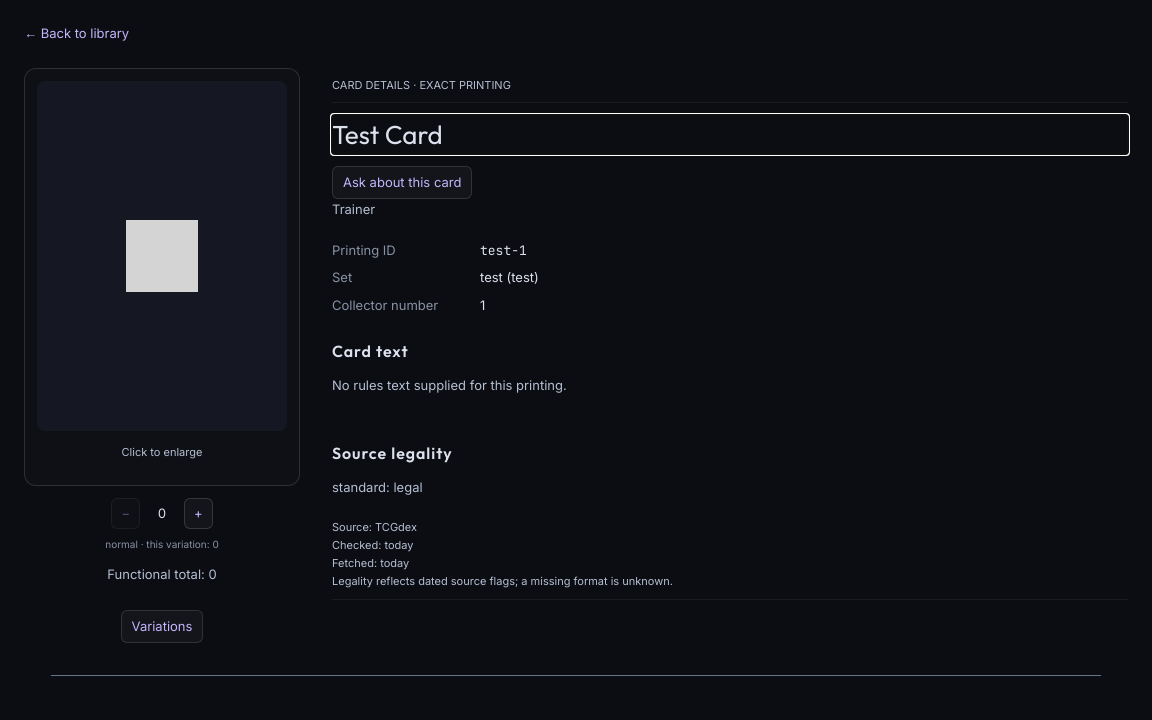
Test: Card Detail artwork has no competitive hover and still enlarges on click
Hover over the element with class "detail-art" at coordinates (162, 355), box [24, 68, 300, 643]
Expected: the text "Click to enlarge" is shown, [122, 444, 202, 458]
Click the button named "enlarge" at coordinates (162, 256), box [37, 80, 287, 430]
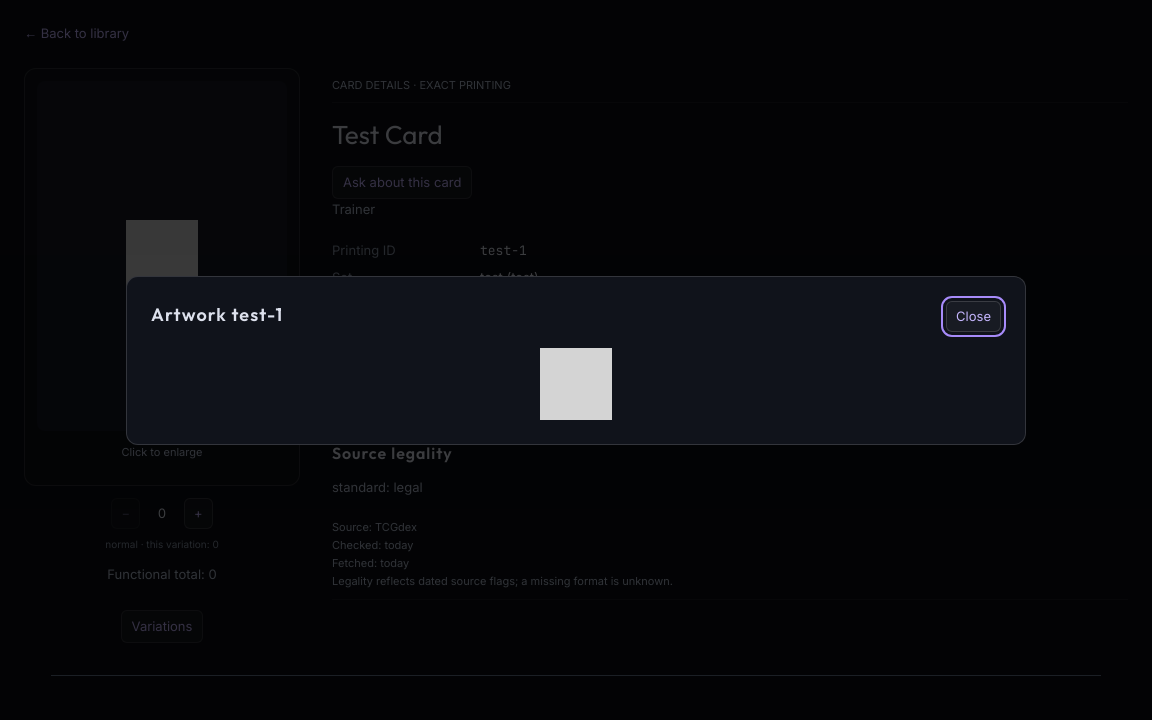
Now the dialog is shown, box [126, 276, 1026, 444]
